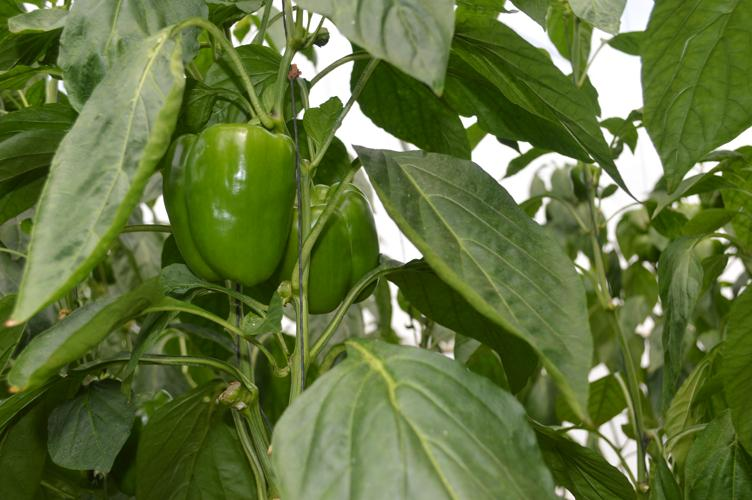BellPepper: (161, 126, 293, 292), (282, 184, 381, 310)
